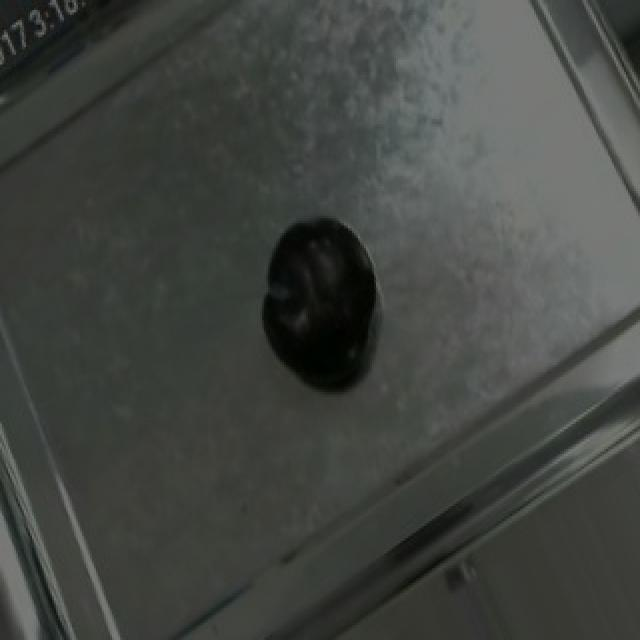Fruit: (240, 198, 394, 400)
